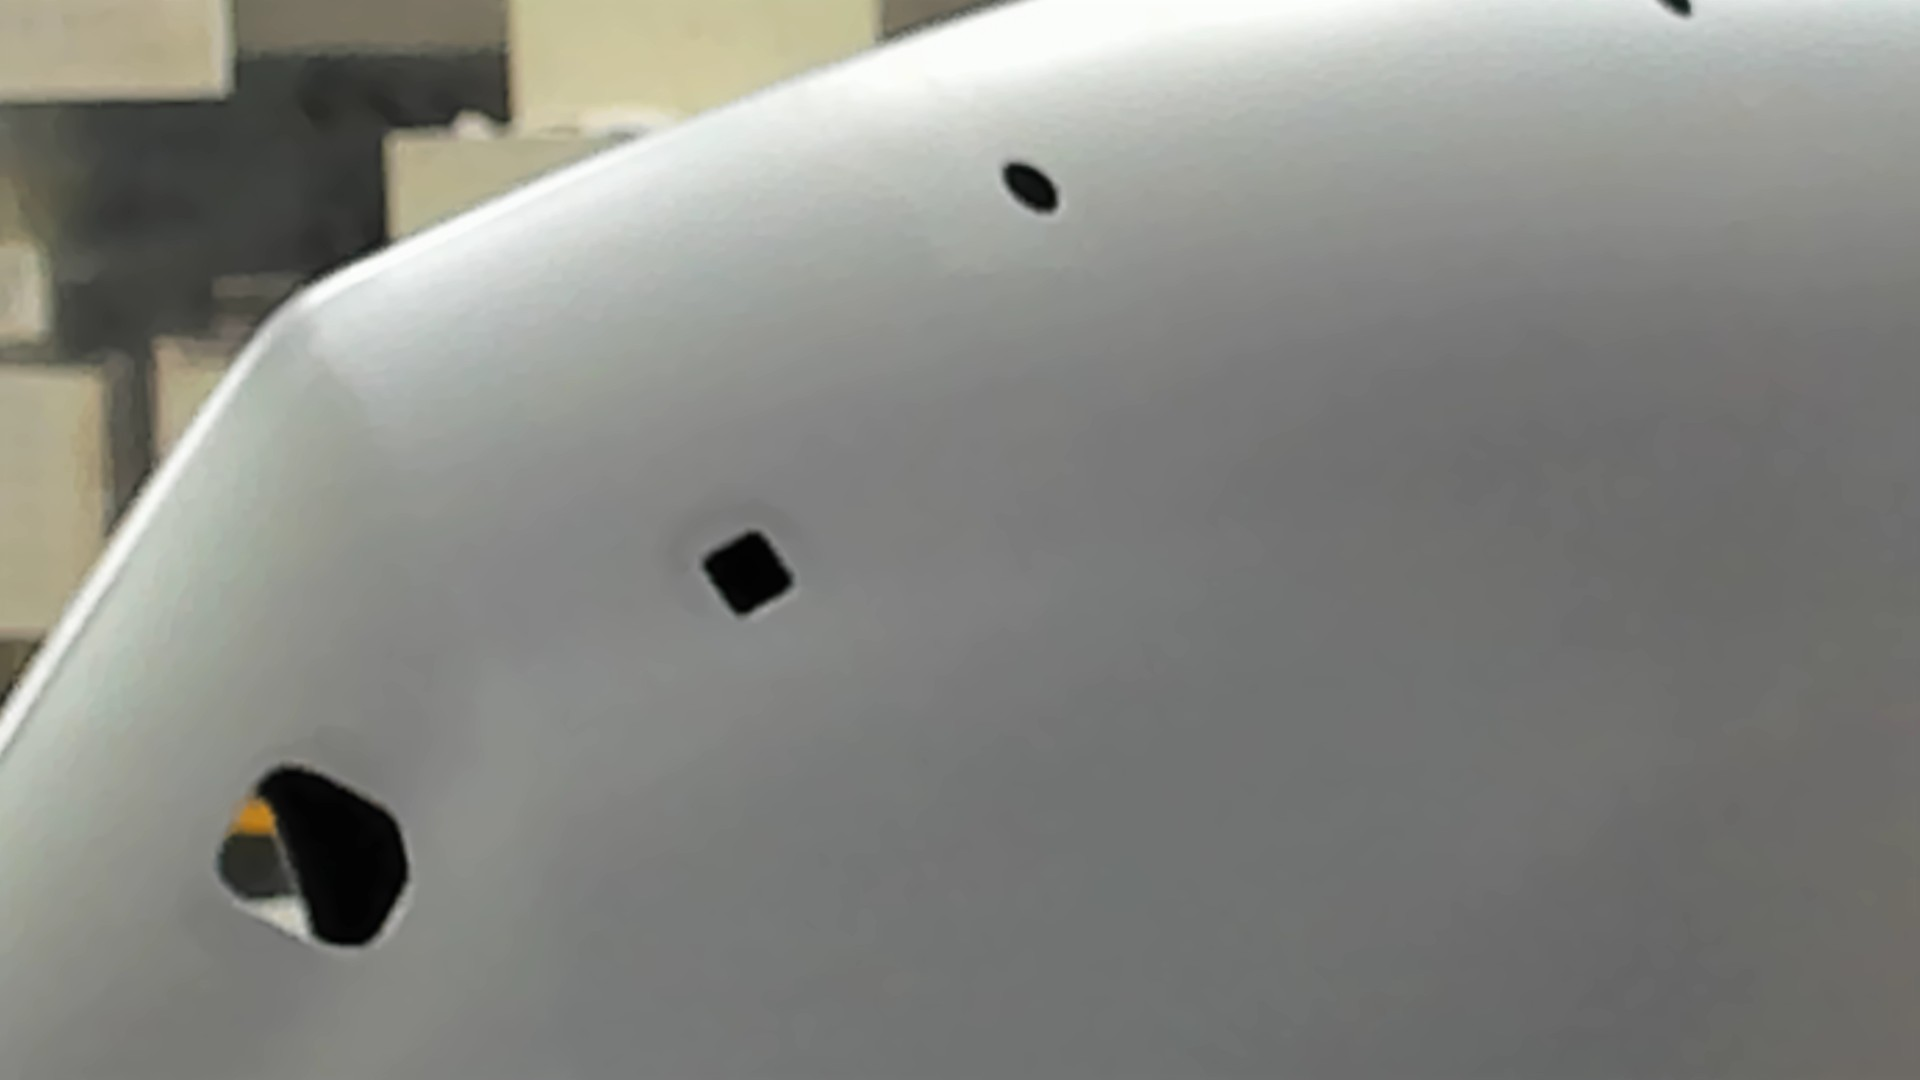chico: (997, 156, 1064, 218), (1658, 1, 1697, 22)
grande: (211, 760, 415, 957)
mediano: (699, 520, 796, 622)
